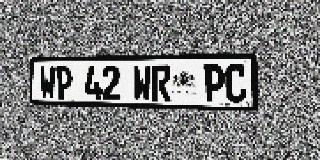2: (102, 65, 120, 100)
4: (85, 66, 102, 100)
C: (225, 64, 247, 103)
P: (204, 64, 224, 102), (56, 66, 72, 99)
R: (152, 65, 171, 101)
W: (133, 65, 151, 101), (40, 66, 56, 99)
